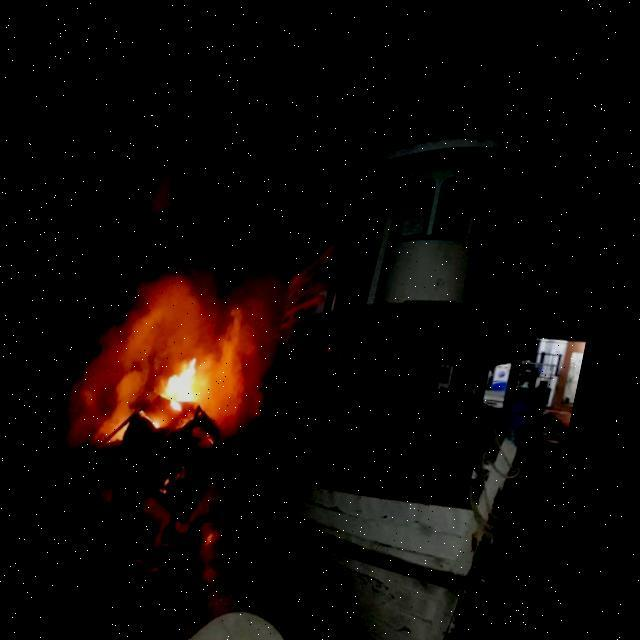Fire: (169, 342, 224, 417)
